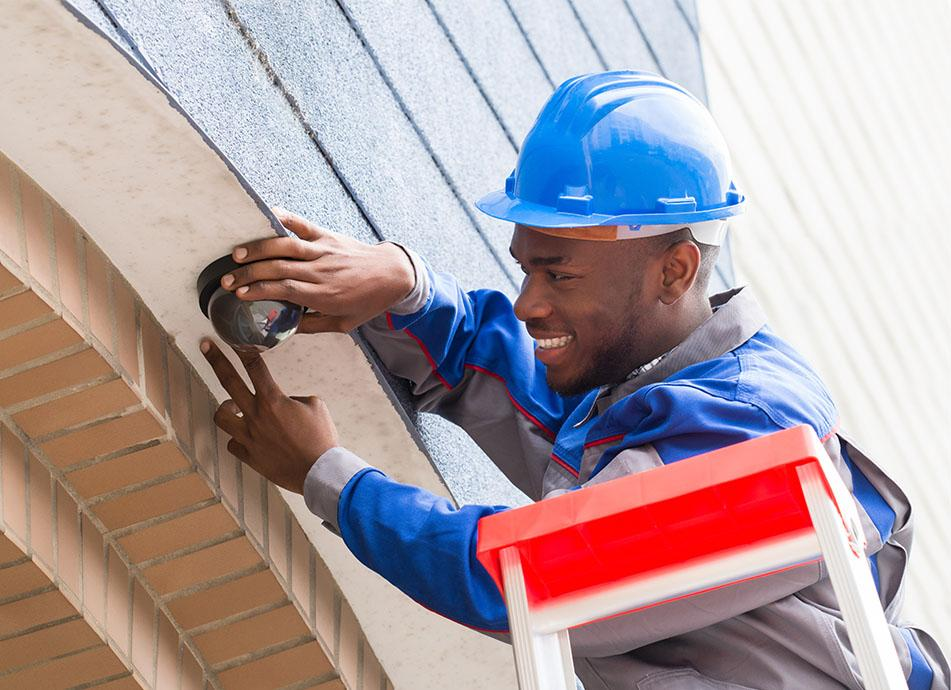helmet: (502, 70, 743, 239)
